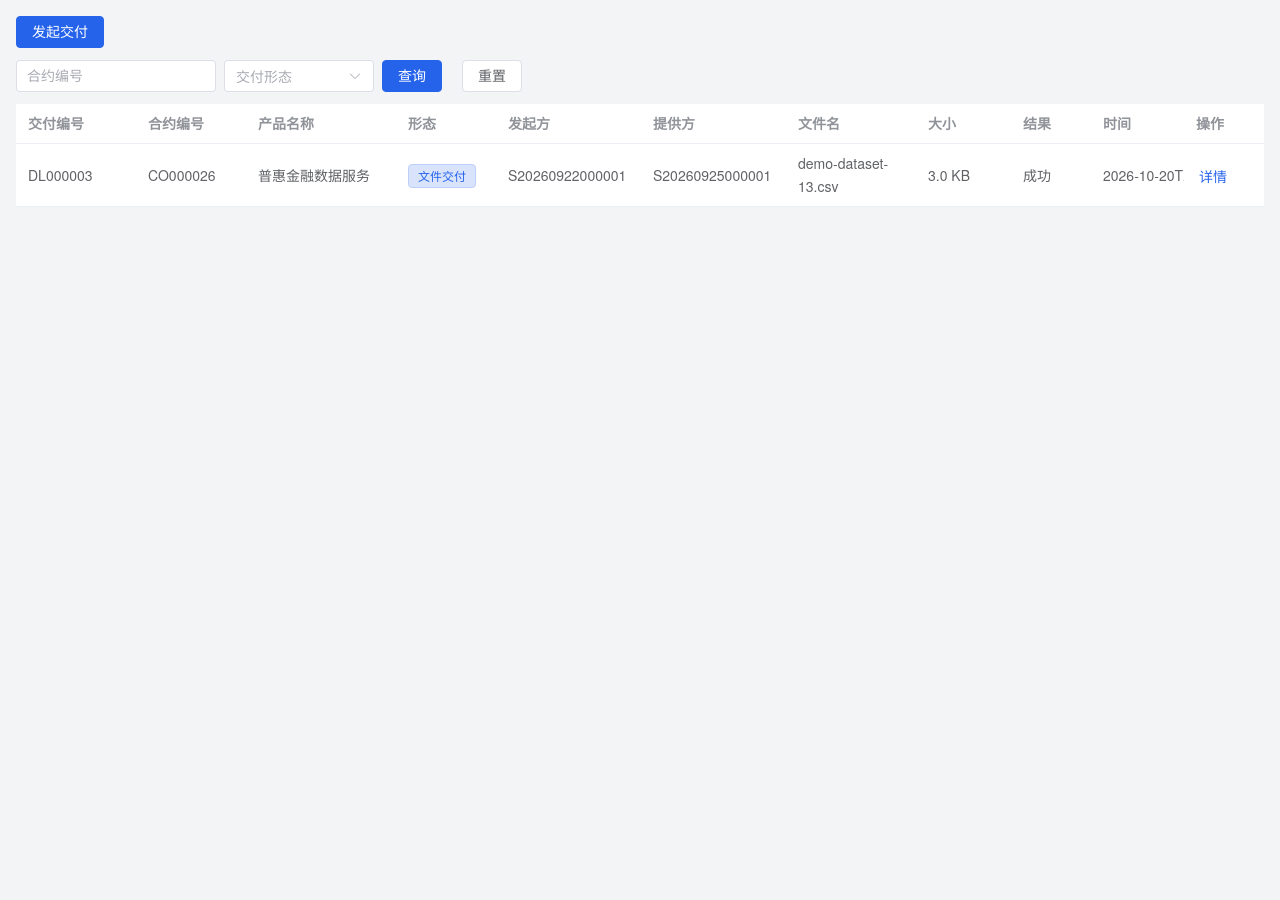
Test: 详情抽屉与下载（T6） › 详情字段集 + SM3 校验值展示；FILE + 需求方主体 → 下载按钮可见
Click the button "详情": x=1213, y=177 [1196, 167, 1230, 187]
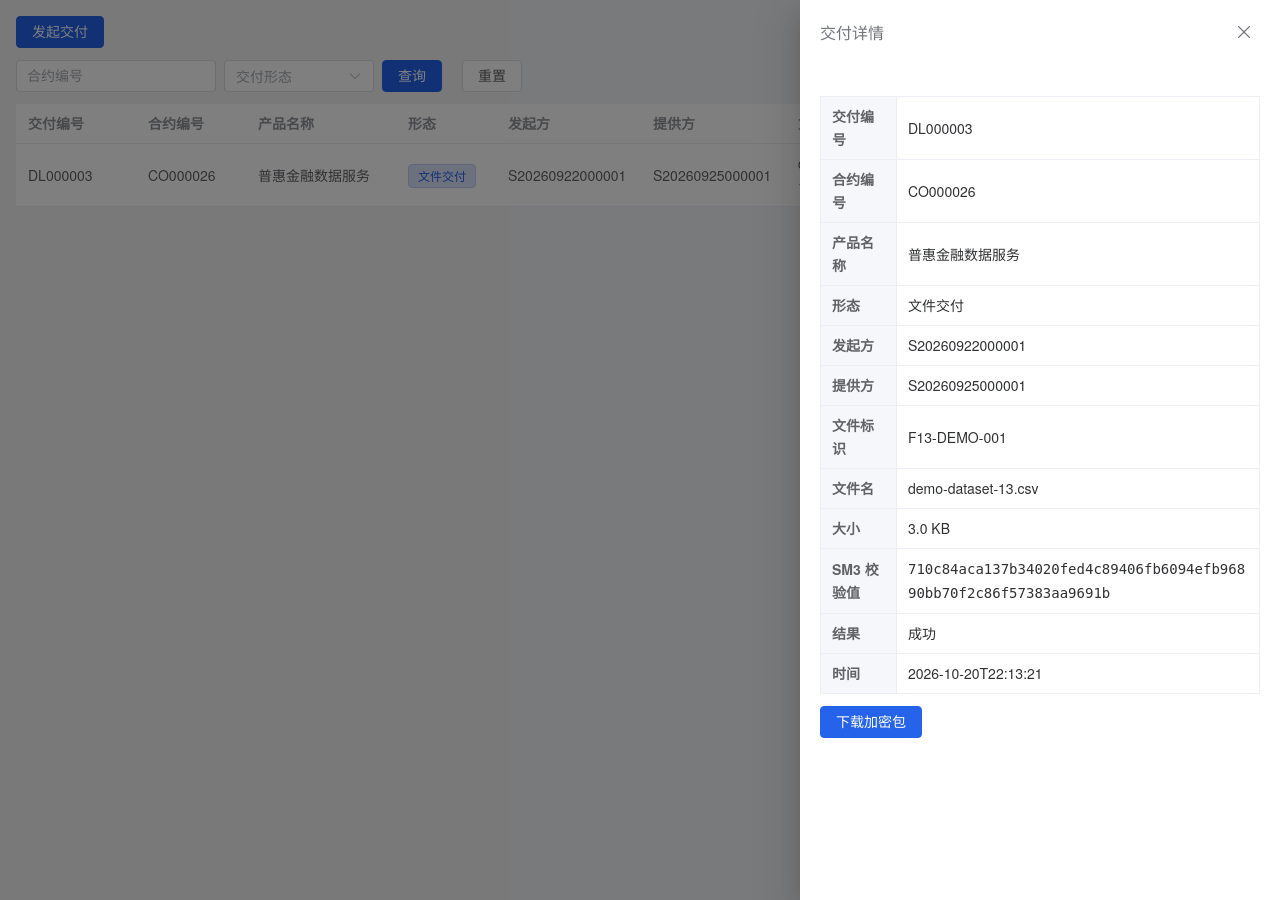
Check: the text "710c84aca137b34020fed4c89406fb6094efb96890bb70f2c86f57383aa9691b" is shown, box [908, 561, 1245, 601]
Check: the button "下载加密包" is shown, box [820, 706, 922, 738]
